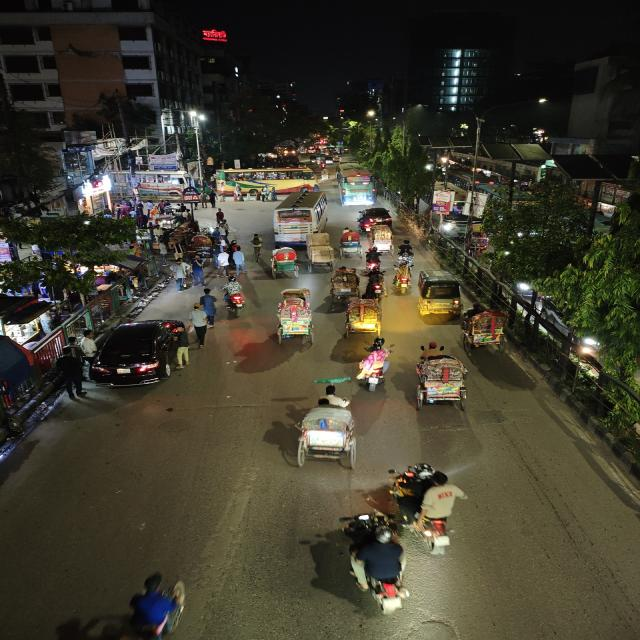bus: (269, 190, 328, 243), (250, 166, 322, 194), (336, 166, 379, 208)
car: (89, 317, 192, 391), (356, 206, 395, 232)
cng: (414, 267, 464, 321)
motorcycle: (384, 460, 479, 558), (337, 511, 420, 616), (353, 339, 395, 393), (221, 274, 247, 318), (393, 238, 418, 268), (392, 263, 412, 297), (366, 268, 386, 298), (362, 247, 384, 274), (248, 232, 265, 260)
pedestrian: (72, 328, 100, 381), (55, 348, 85, 396), (188, 303, 209, 345), (199, 288, 217, 326), (170, 258, 190, 290), (188, 255, 208, 287), (226, 242, 247, 272), (177, 258, 194, 290)
rickshaw: (281, 391, 369, 471), (409, 341, 476, 413), (458, 301, 514, 355), (272, 288, 318, 348), (343, 295, 384, 335), (326, 265, 361, 303), (304, 231, 335, 272), (267, 244, 301, 278), (368, 223, 396, 254), (338, 227, 362, 259)
